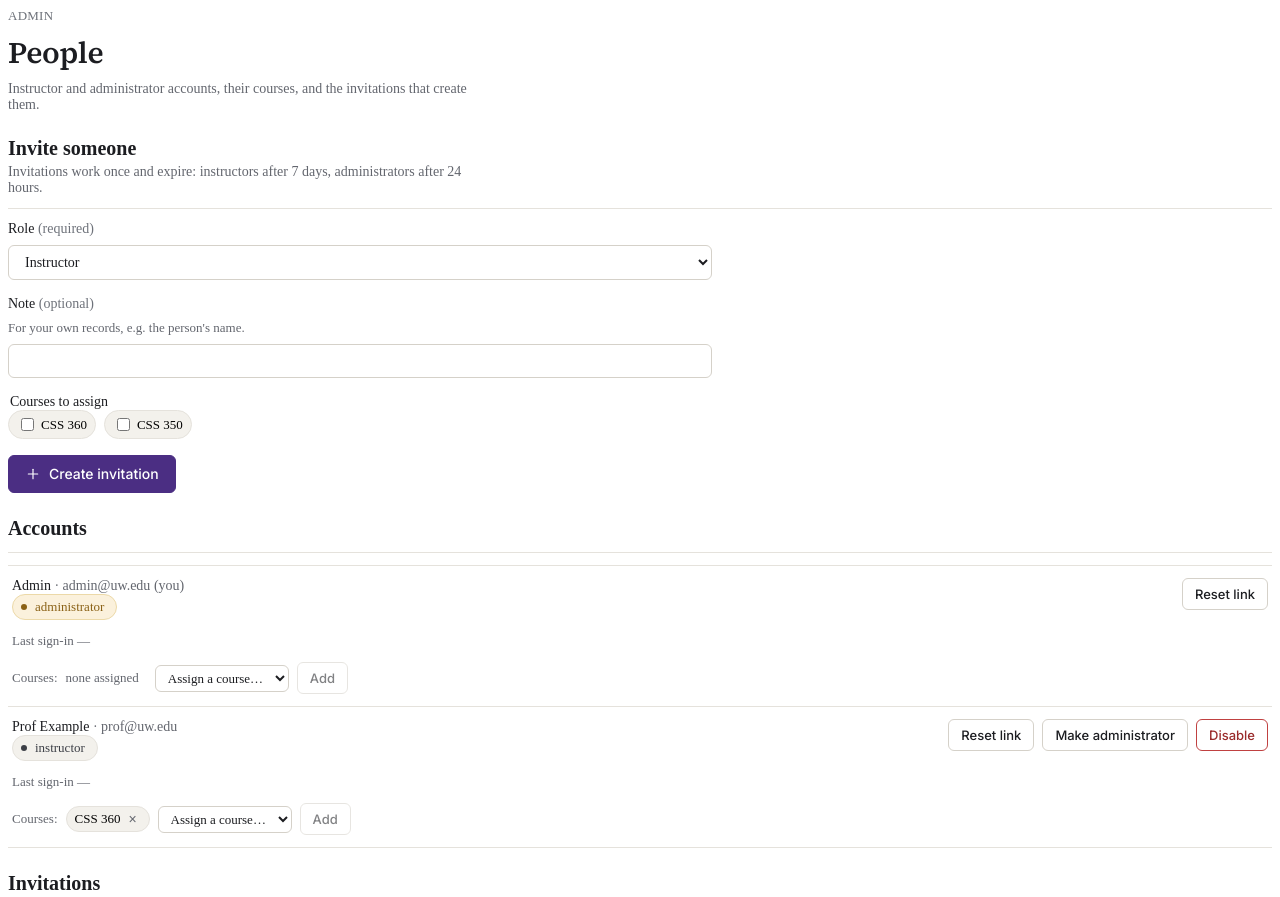
Test case: AdminPeoplePage › creates an instructor invitation for the chosen courses and shows the link once
Expected: the list named "Accounts" is shown, [8,565,1272,848]
Click the checkbox labelled "CSS 350". click: x=123, y=424
box: [117,418,130,431]
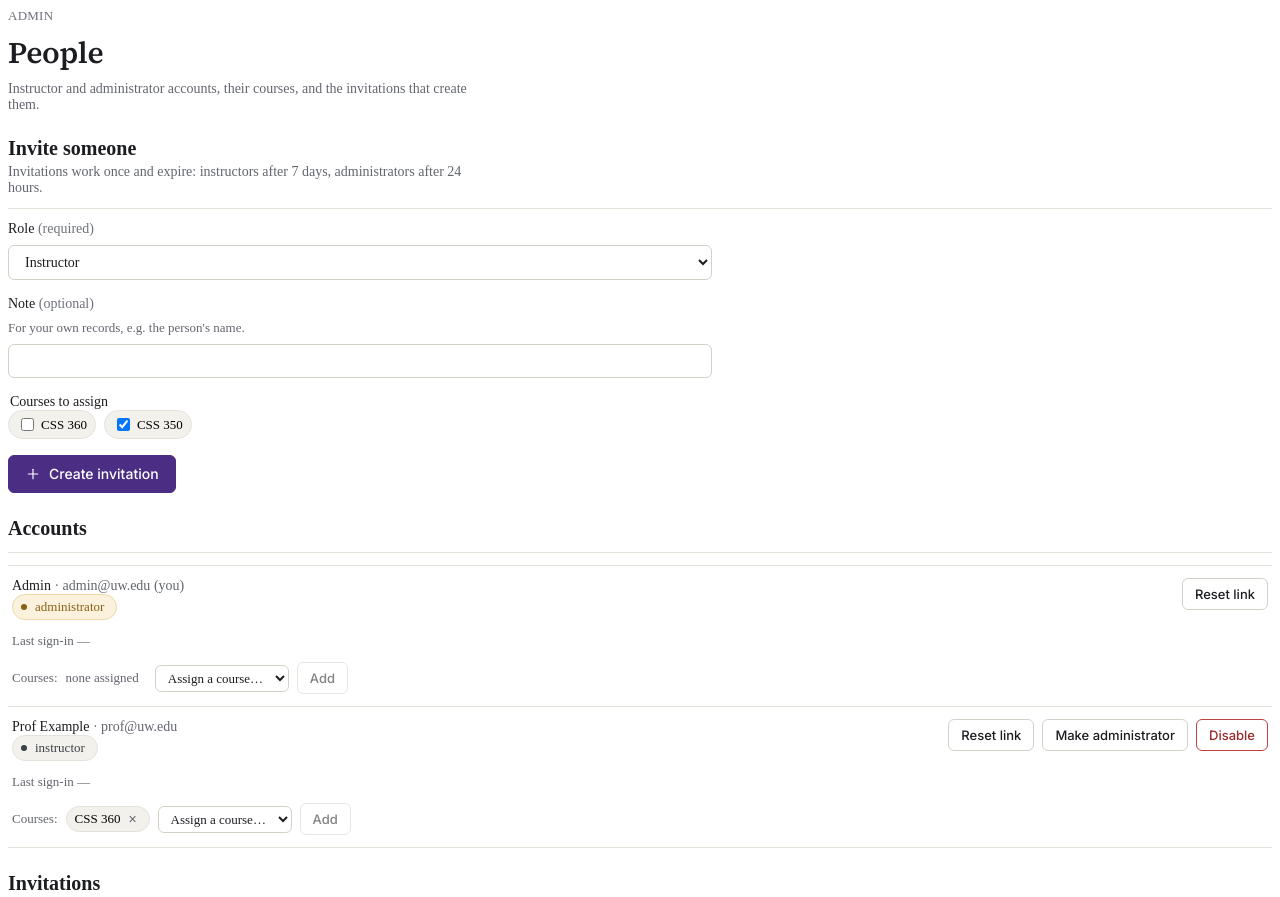
Type "Dr. Y" into the field labelled "Note (optional)". click: x=360, y=361
box: [8,344,712,378]
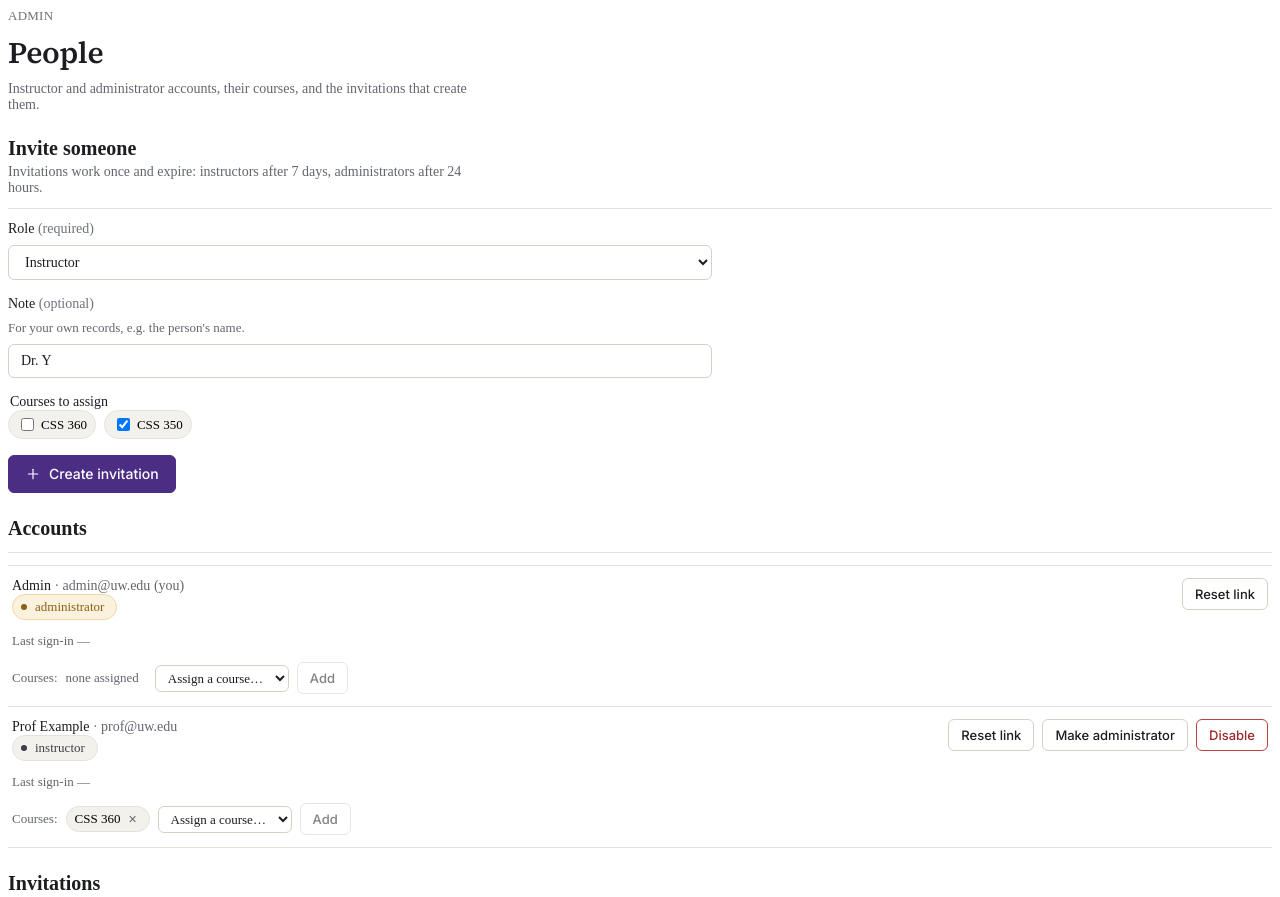
Click the button "Create invitation". click: x=92, y=474
box: [8,455,176,493]
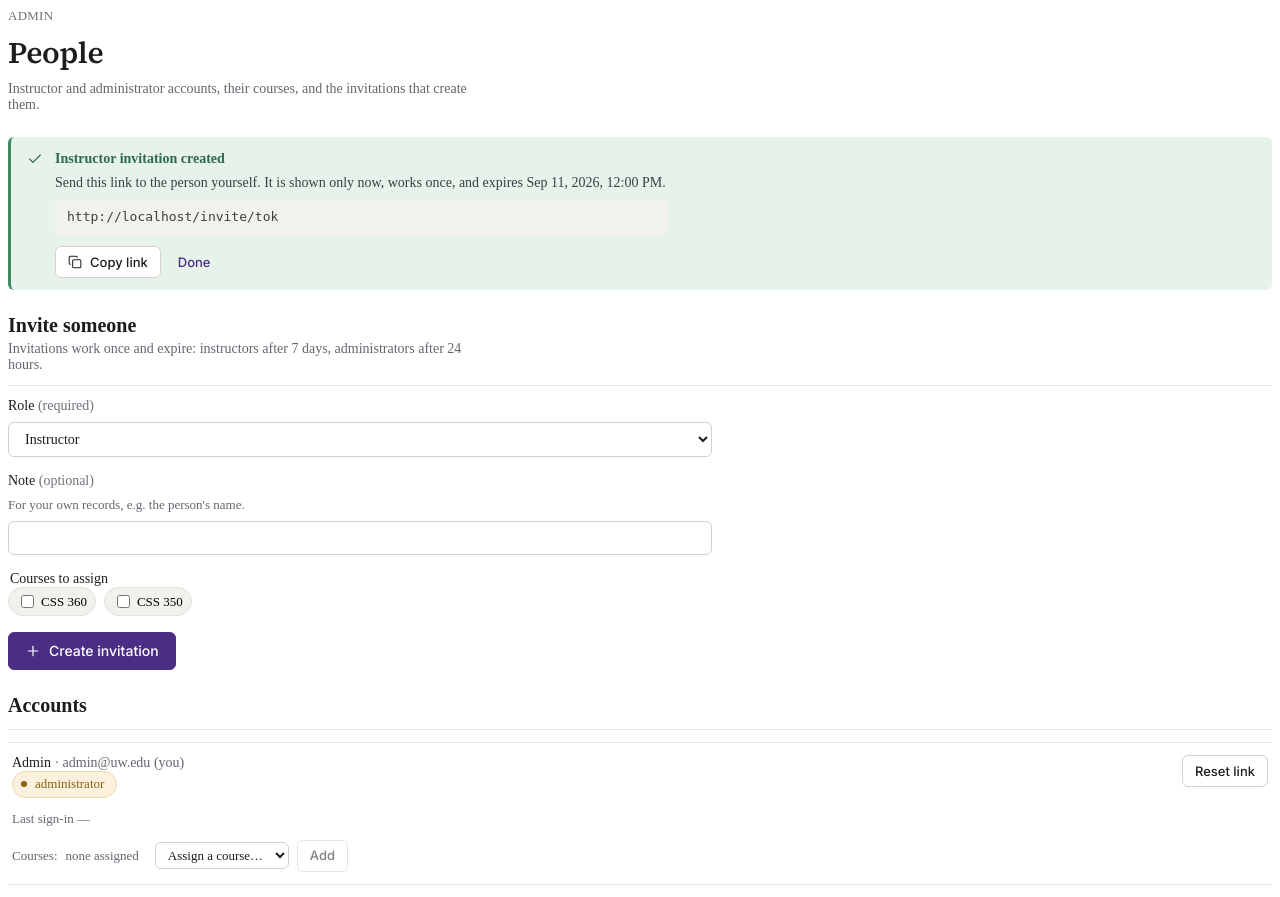
Expected: the text "Instructor invitation created" is shown, [55,151,225,166]
